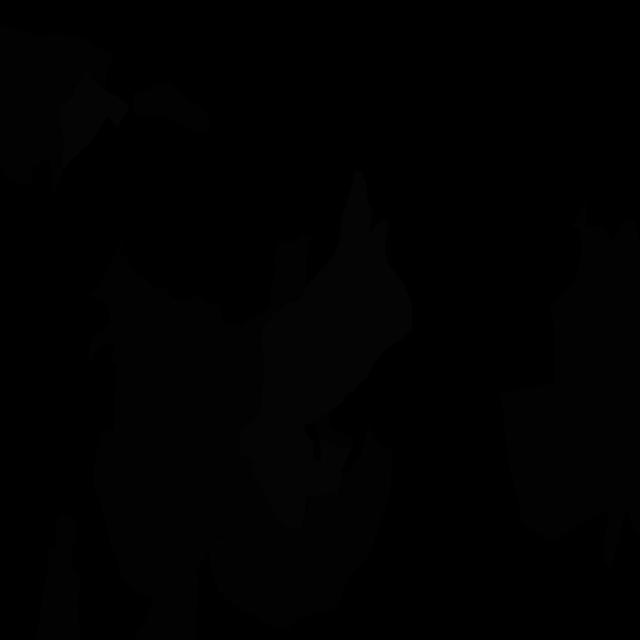cardboard: (87, 239, 261, 598), (499, 201, 640, 568), (208, 426, 392, 630), (0, 22, 114, 192), (241, 233, 314, 398), (35, 512, 80, 640), (133, 569, 199, 640), (133, 82, 210, 131), (311, 412, 354, 449)
soft_plastic: (238, 171, 412, 532), (58, 72, 129, 170)
